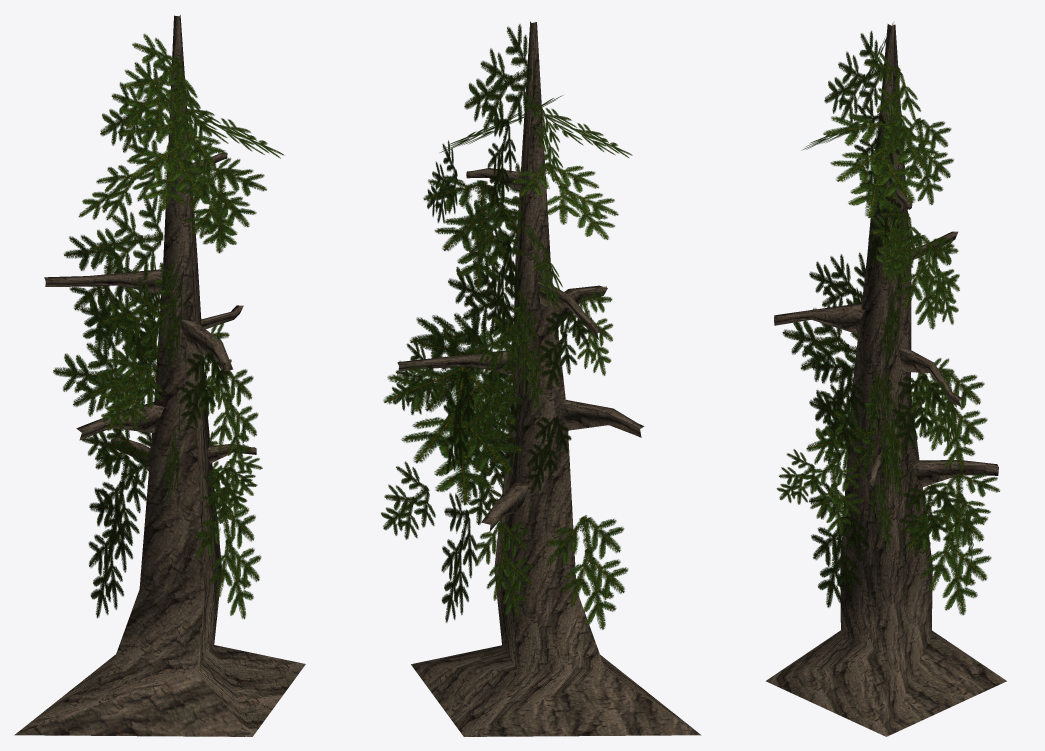
The model's file is pine_tree_lod_low.glb.
3 renders of one model, left to right at view 1: azimuth 30°, elevation 25°; view 2: azimuth 150°, elevation 25°; view 3: azimuth 270°, elevation 25°, orthographic. The views are drawn at different scales.
Parts seen in each view (by area): view 1: tree_noanim.png__, trunk_bark.jpg__; view 2: tree_noanim.png__, trunk_bark.jpg__; view 3: tree_noanim.png__, trunk_bark.jpg__.
Boxes of the visible parts, x1,y1,x2,y2 form: tree_noanim.png__: (53,33,284,619); trunk_bark.jpg__: (14,15,305,736); tree_noanim.png__: (381,24,632,629); trunk_bark.jpg__: (397,21,701,736); tree_noanim.png__: (776,22,1000,615); trunk_bark.jpg__: (765,24,1006,736).
Size of the model in its own units: 5.72 by 12.01 by 4.54.
Materials: 2 (2 with a texture image).
